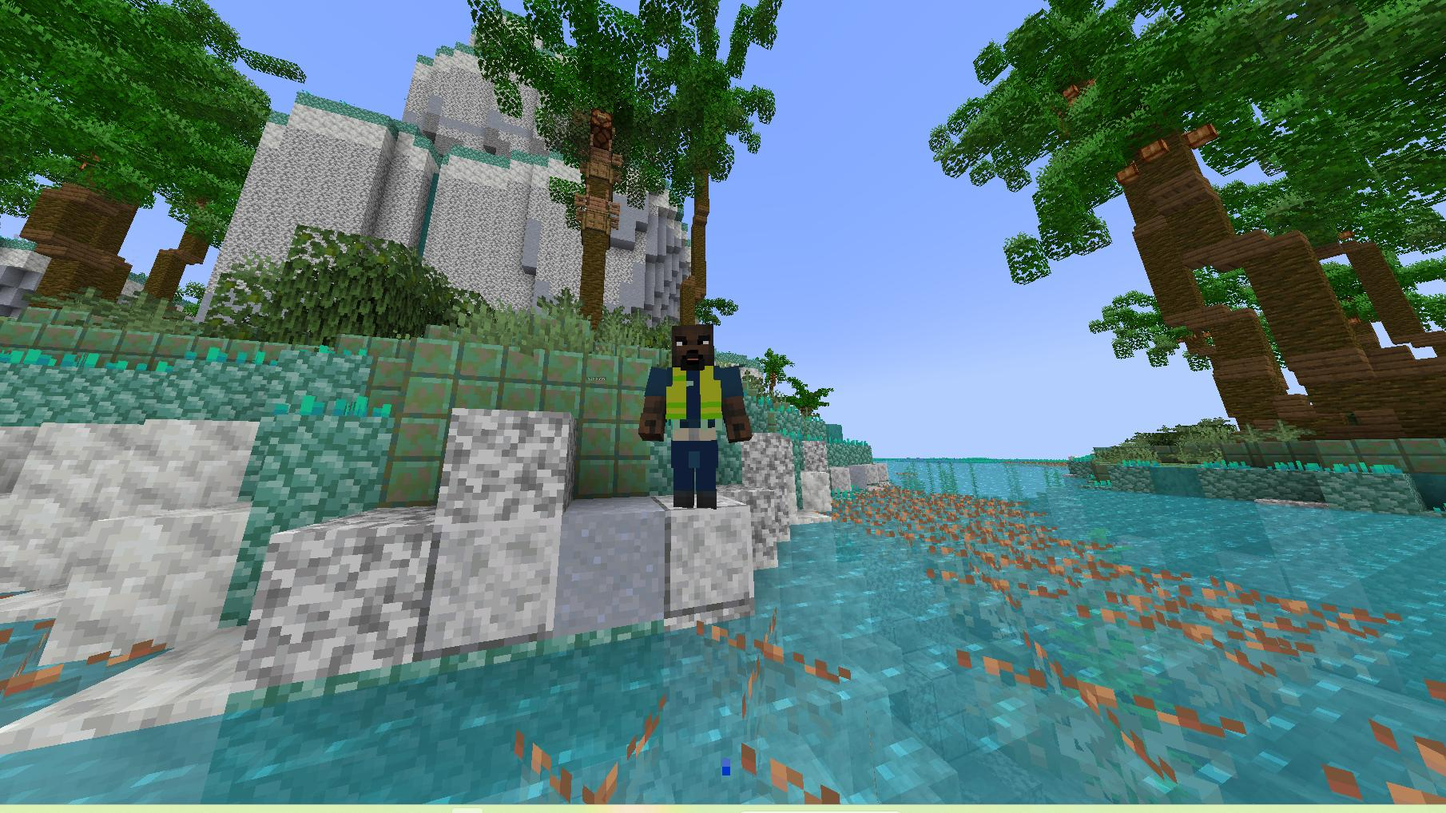Guardian: (639, 324, 752, 507)
